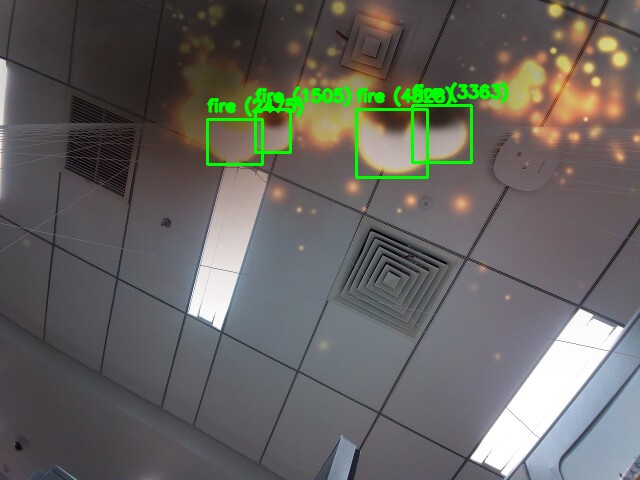fire: (356, 109, 427, 177), (412, 105, 471, 162), (207, 119, 262, 164), (255, 109, 290, 152)
